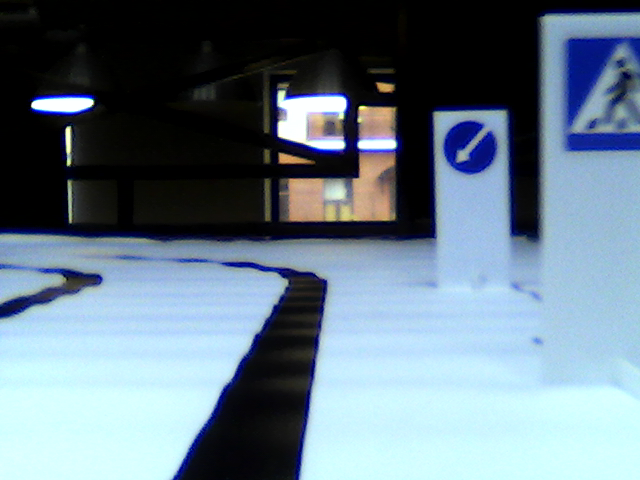pesh: (559, 36, 640, 152)
prep: (442, 121, 497, 175)
